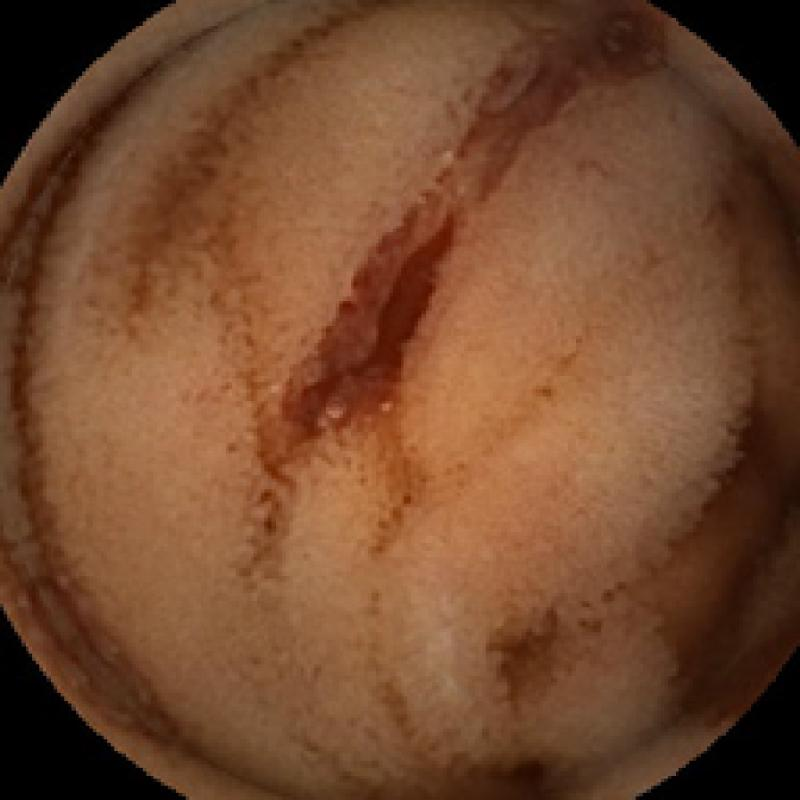bleeding: (354, 200, 464, 421)
